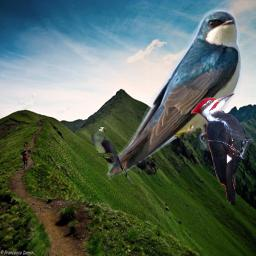Cuckoo: (91, 126, 137, 185)
Swallow: (102, 4, 248, 180)
Woodpecker: (191, 93, 253, 205)
